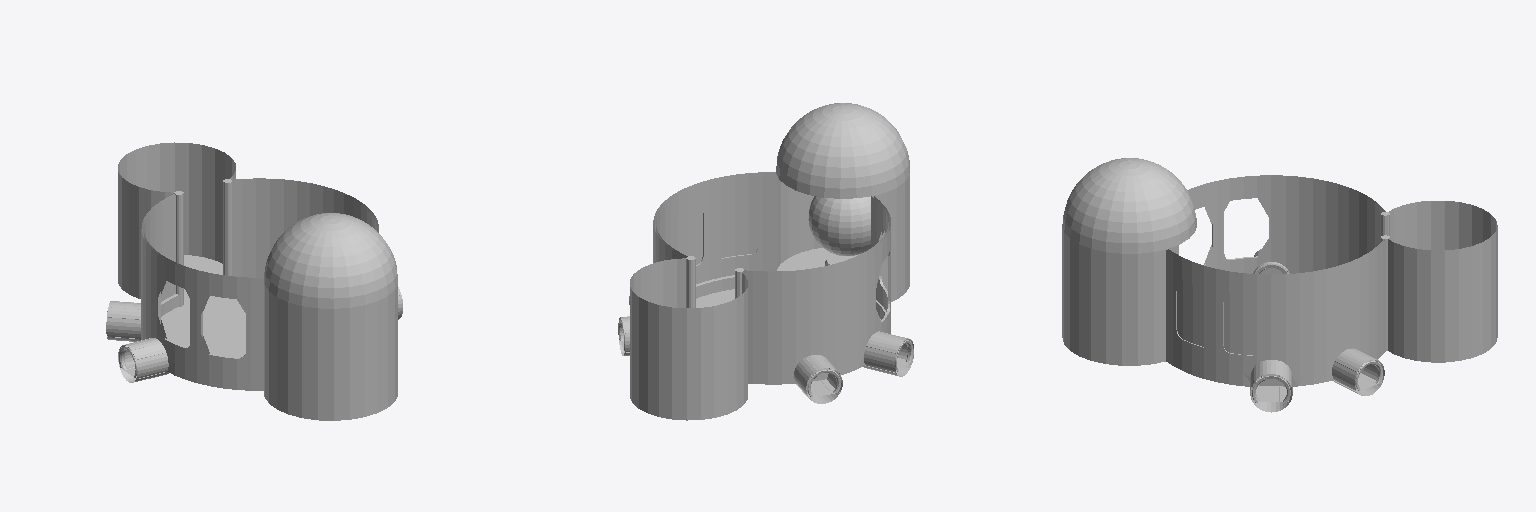
File: CoreRaum_Test.obj
The picture shows the model from 3 angles: view 1: azimuth 30°, elevation 25°; view 2: azimuth 150°, elevation 25°; view 3: azimuth 270°, elevation 25°; orthographic projection.
Visible parts, largest first — view 1: CoreRaum Glaskuppel1, CoreRaum polySurface4, CoreRaum Main_Walls2, CoreRaum polySurface5, CoreRaum Main_Floor1, CoreRaum Door_Eingang1Frame2, CoreRaum Door_Eingang1Frame, CoreRaum Stage1, CoreRaum Saele2, CoreRaum Saele3, CoreRaum Main_Floor4; view 2: CoreRaum Main_Walls2, CoreRaum polySurface4, CoreRaum Glaskuppel1, CoreRaum polySurface5, Core CoreRaum, CoreRaum Fenster3, CoreRaum Door_Eingang1Frame2, CoreRaum Fenster4, CoreRaum Door_Eingang1Frame, CoreRaum Stage1; view 3: CoreRaum Glaskuppel1, CoreRaum polySurface5, CoreRaum Main_Walls2, CoreRaum polySurface4, CoreRaum Fenster4, CoreRaum Fenster3, CoreRaum Door_Eingang1Frame1, CoreRaum Door_Eingang1Frame3, CoreRaum Stage1.
Boxes of the visible parts, box(x1,y1,x2,y2) form: CoreRaum Glaskuppel1: box(264, 213, 397, 412); CoreRaum polySurface4: box(141, 194, 263, 390); CoreRaum Main_Walls2: box(118, 142, 235, 298); CoreRaum polySurface5: box(232, 178, 378, 277); CoreRaum Main_Floor1: box(161, 296, 245, 357); CoreRaum Door_Eingang1Frame2: box(118, 338, 168, 382); CoreRaum Door_Eingang1Frame: box(106, 301, 140, 341); CoreRaum Stage1: box(264, 389, 397, 420); CoreRaum Saele2: box(223, 179, 231, 275); CoreRaum Saele3: box(174, 191, 183, 306); CoreRaum Main_Floor4: box(184, 255, 222, 302); CoreRaum Main_Walls2: box(630, 258, 747, 420); CoreRaum polySurface4: box(743, 196, 890, 384); CoreRaum Glaskuppel1: box(776, 103, 909, 293); CoreRaum polySurface5: box(653, 172, 776, 298); Core CoreRaum: box(808, 196, 870, 255); CoreRaum Fenster3: box(715, 196, 757, 257); CoreRaum Door_Eingang1Frame2: box(863, 331, 913, 376); CoreRaum Fenster4: box(673, 206, 702, 264); CoreRaum Door_Eingang1Frame: box(794, 355, 842, 403); CoreRaum Stage1: box(777, 248, 909, 301); CoreRaum Glaskuppel1: box(1062, 158, 1196, 357); CoreRaum polySurface5: box(1166, 239, 1385, 386); CoreRaum Main_Walls2: box(1388, 201, 1497, 362); CoreRaum polySurface4: box(1169, 175, 1385, 273); CoreRaum Fenster4: box(1224, 294, 1268, 355); CoreRaum Fenster3: box(1177, 280, 1211, 346); CoreRaum Door_Eingang1Frame1: box(1332, 348, 1384, 395); CoreRaum Door_Eingang1Frame3: box(1250, 360, 1292, 412); CoreRaum Stage1: box(1062, 330, 1165, 365).
Size of the model in its own units: 36.86 by 24.33 by 52.24.